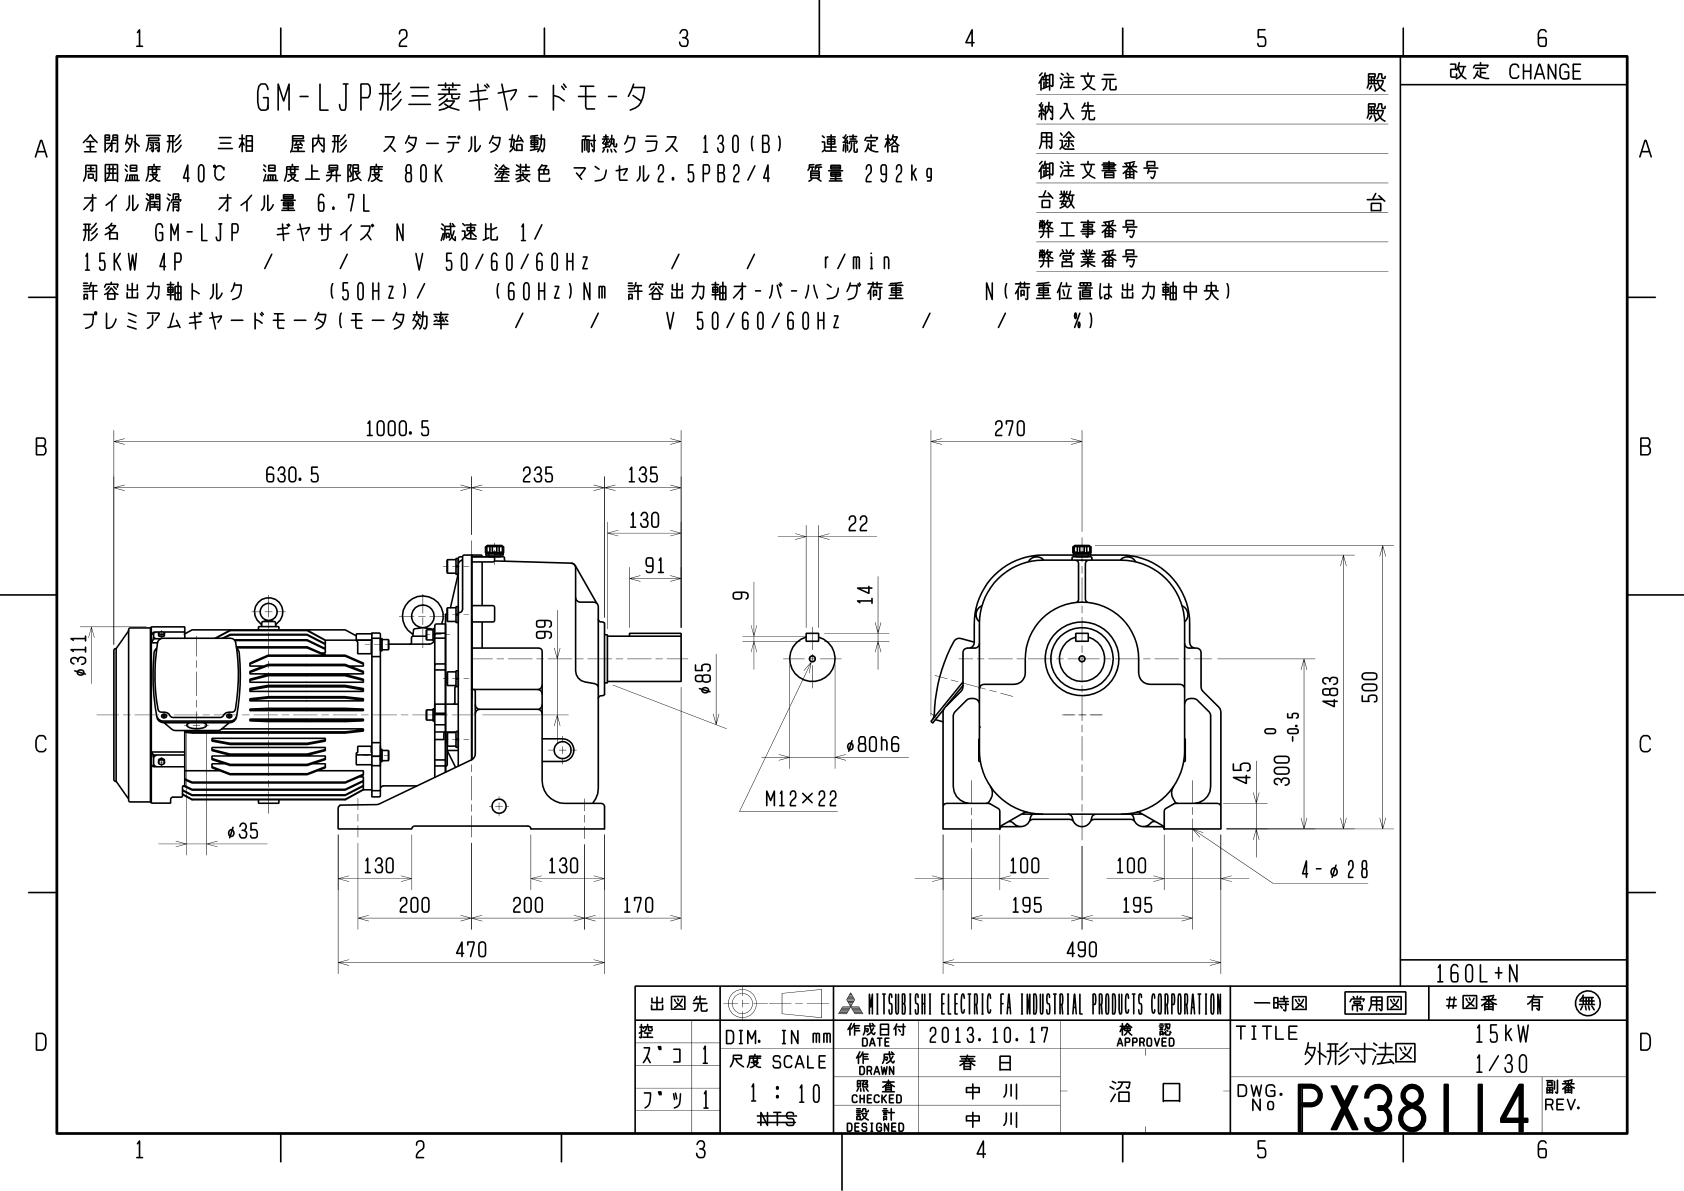GM_LJP_屋内_三相_脚: (9, 5, 1684, 1191)
